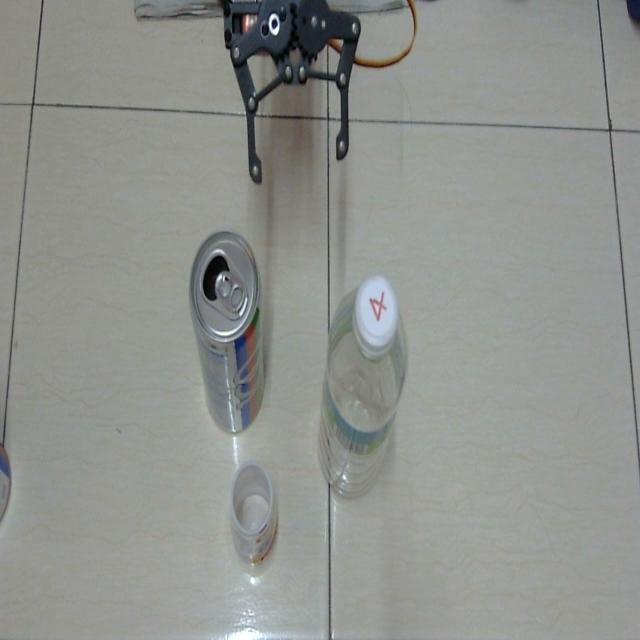Metal-stand-rotation: (184, 226, 270, 438)
Plastic-stand-rotation: (316, 261, 411, 519), (222, 459, 286, 574)
